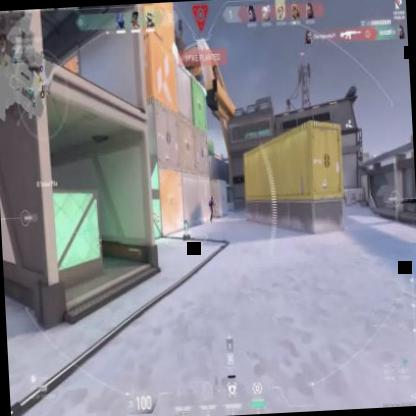enemy: (207, 196, 215, 222)
enemy_head: (210, 196, 213, 202)
